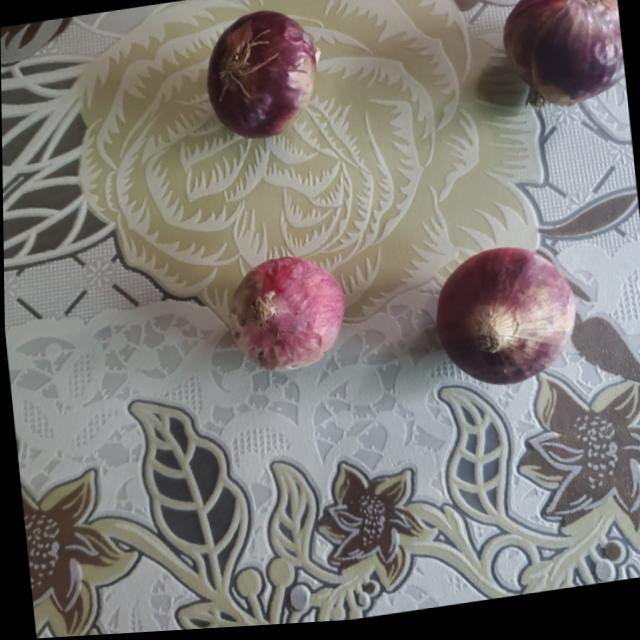onion: (425, 244, 576, 399), (199, 6, 323, 147), (498, 0, 626, 122), (228, 253, 348, 381)
